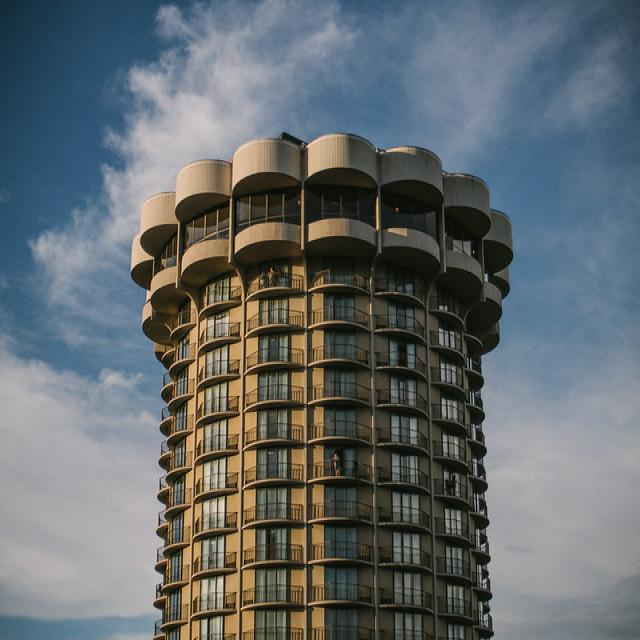building: (125, 126, 518, 640)
